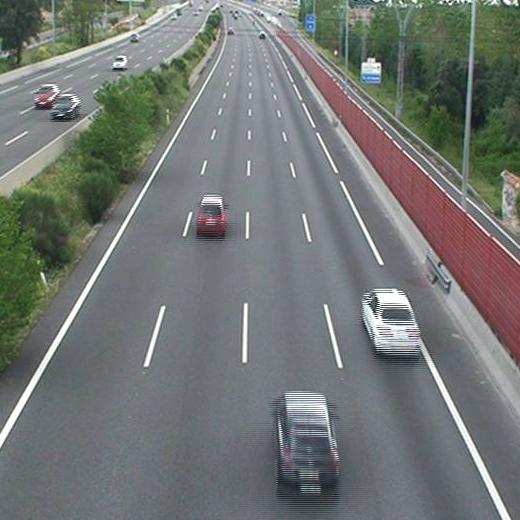car: (275, 392, 337, 490), (361, 290, 421, 357), (197, 195, 225, 232)
